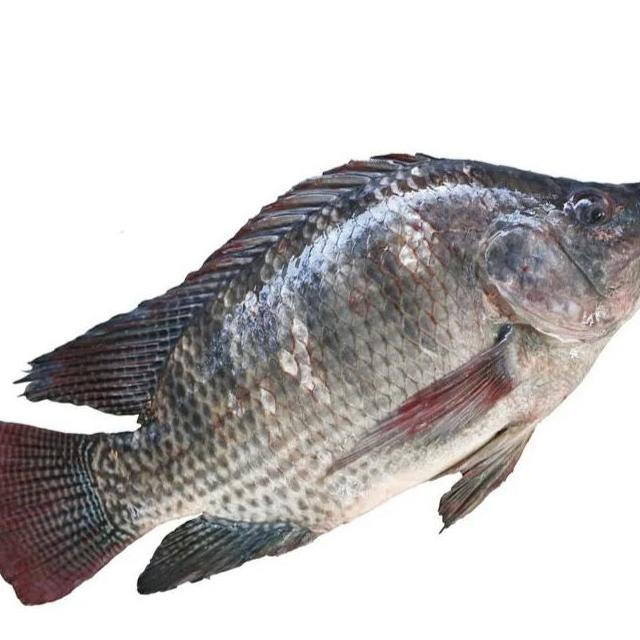fish: (0, 143, 640, 603)
